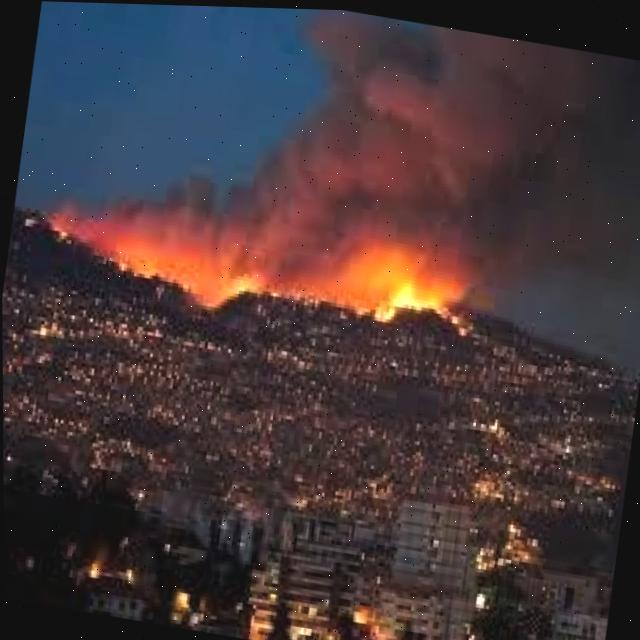fire: (64, 193, 444, 333)
smoke: (267, 7, 640, 282)
